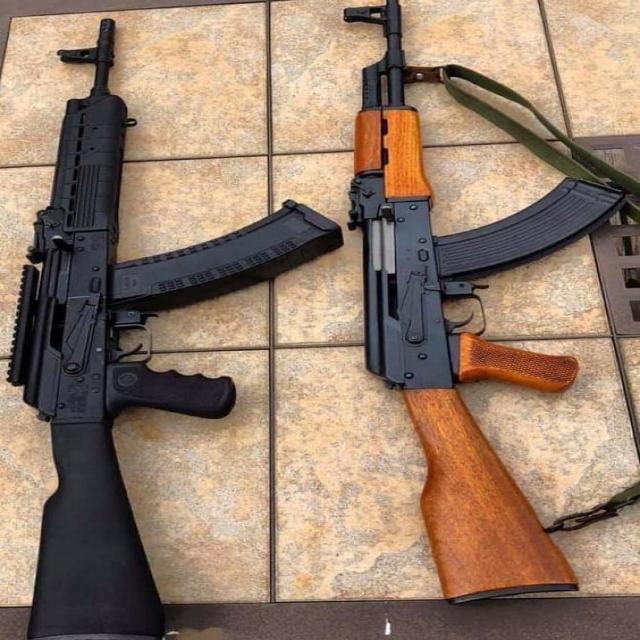ak: (18, 11, 352, 640)
